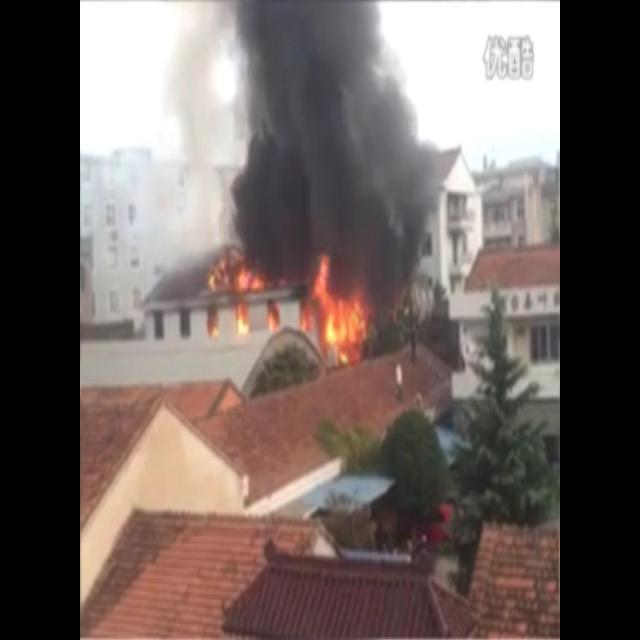Fire: (200, 248, 382, 366)
Smoke: (235, 4, 444, 272), (167, 10, 226, 228)
